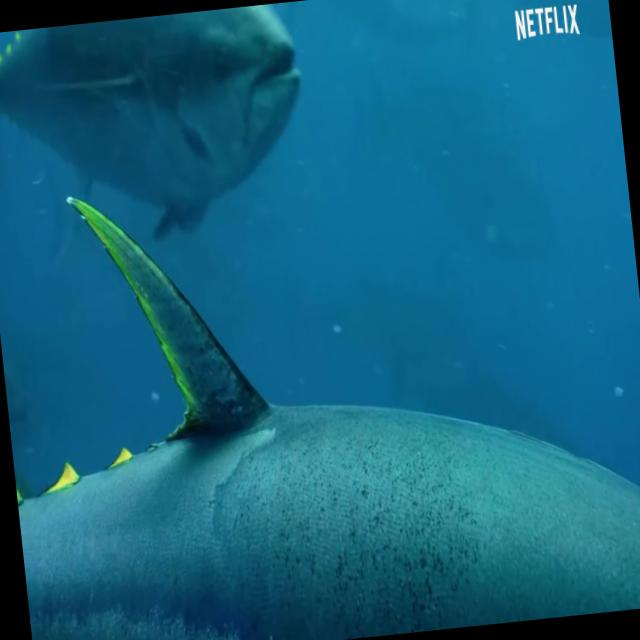fish: (0, 126, 640, 640), (0, 0, 323, 265)
